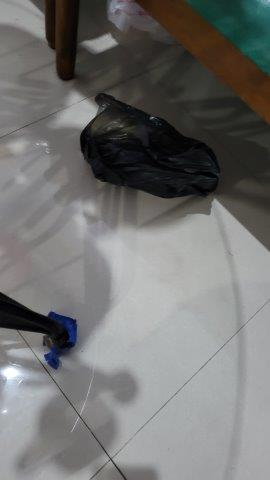plastik: (82, 95, 219, 200)
